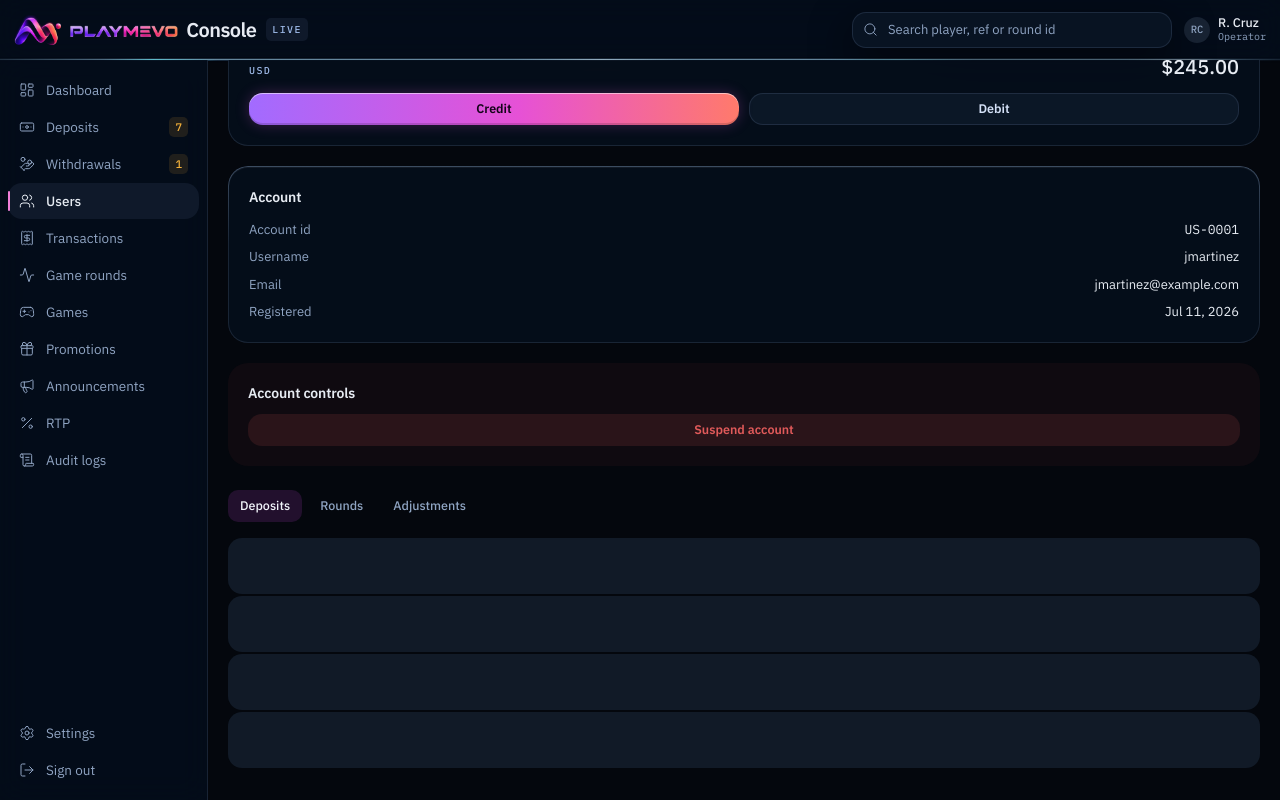
Scenario: admin user details › shows separate wallets, omits unsupported controls, and changes account status
(page scrolled)
Step 1. Click the tab "Rounds" → (342, 506), box [308, 490, 375, 522]
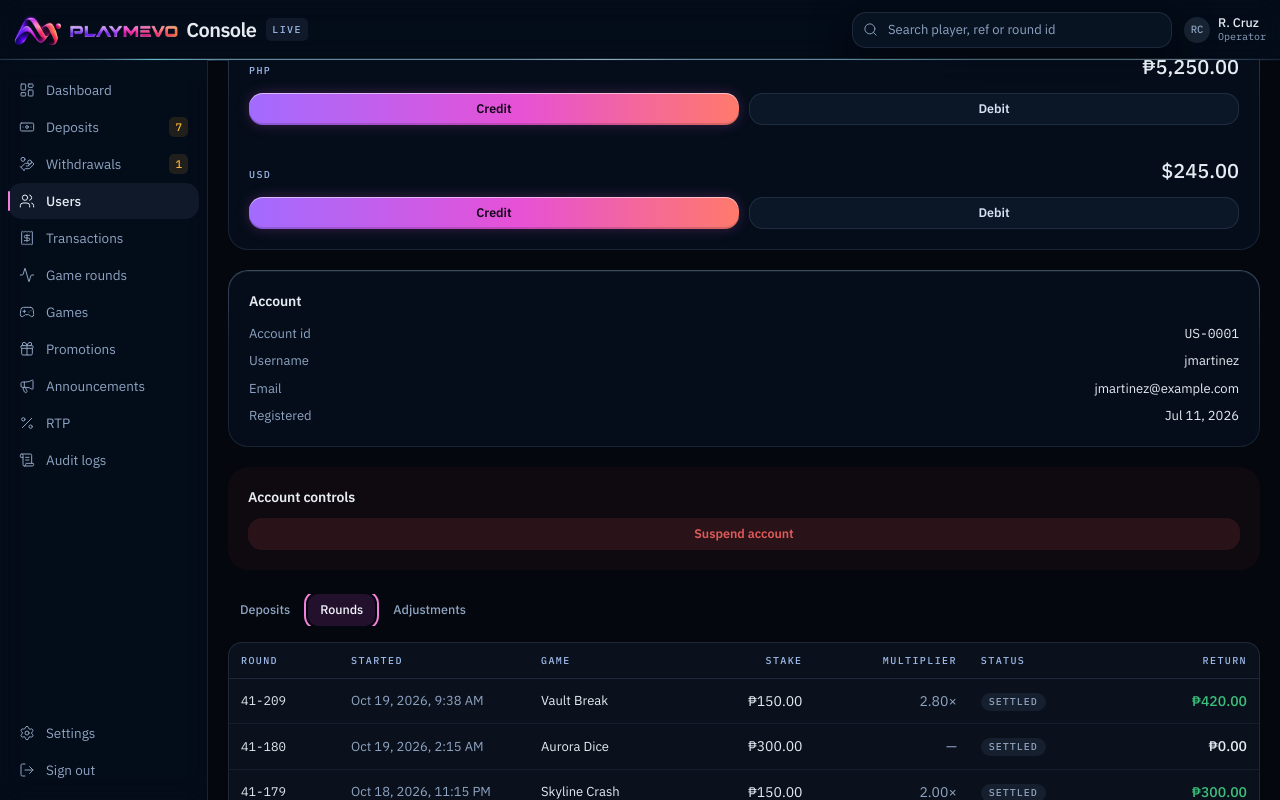
Step 2. Click the button "Suspend account" → (744, 534), box [248, 518, 1240, 550]
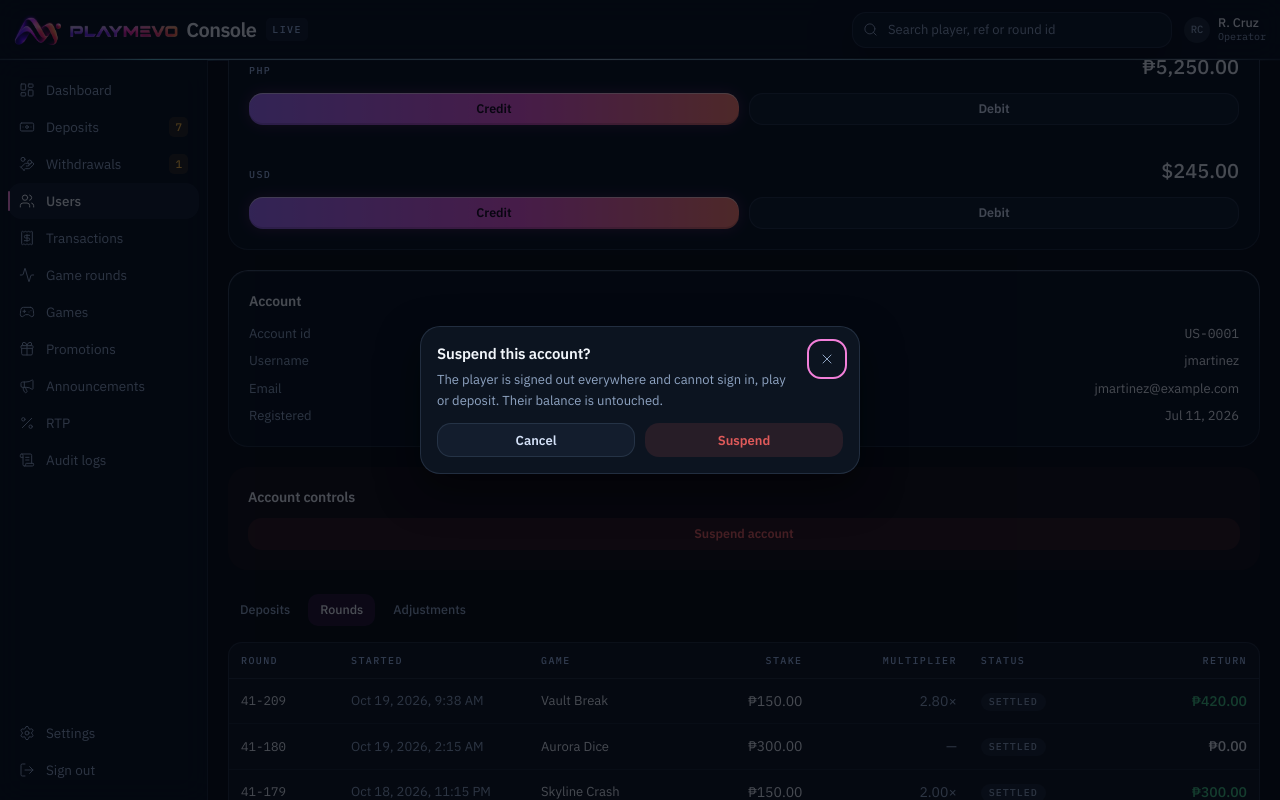
Step 3. Click the button "Suspend" → (744, 440), box [645, 423, 843, 457]
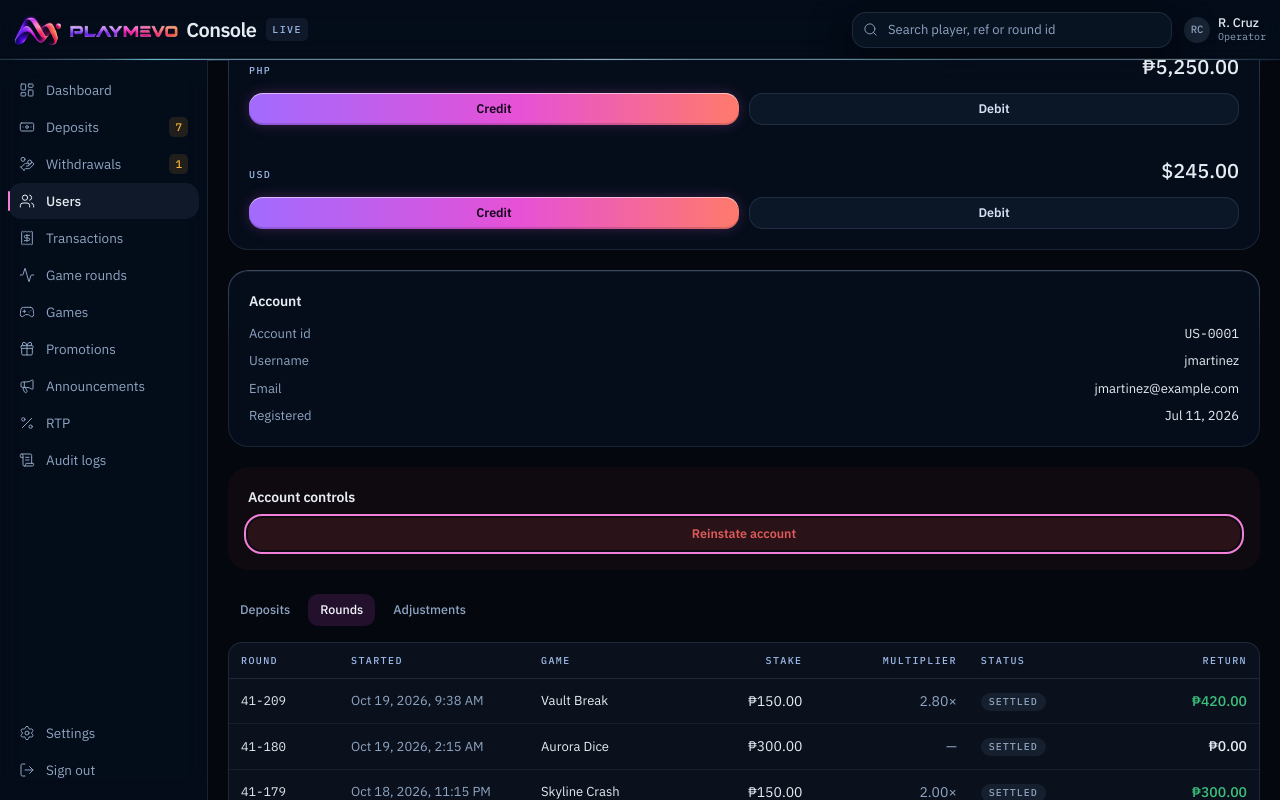
expect the button "Reinstate account" is shown: met, box [248, 518, 1240, 550]
